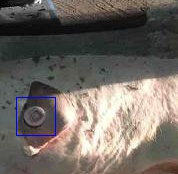text: (16, 97, 55, 135)
